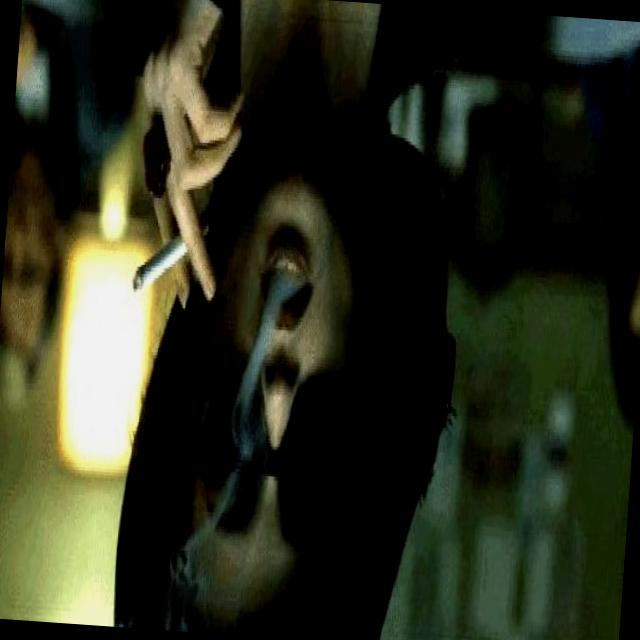cigarette: (124, 211, 217, 316)
